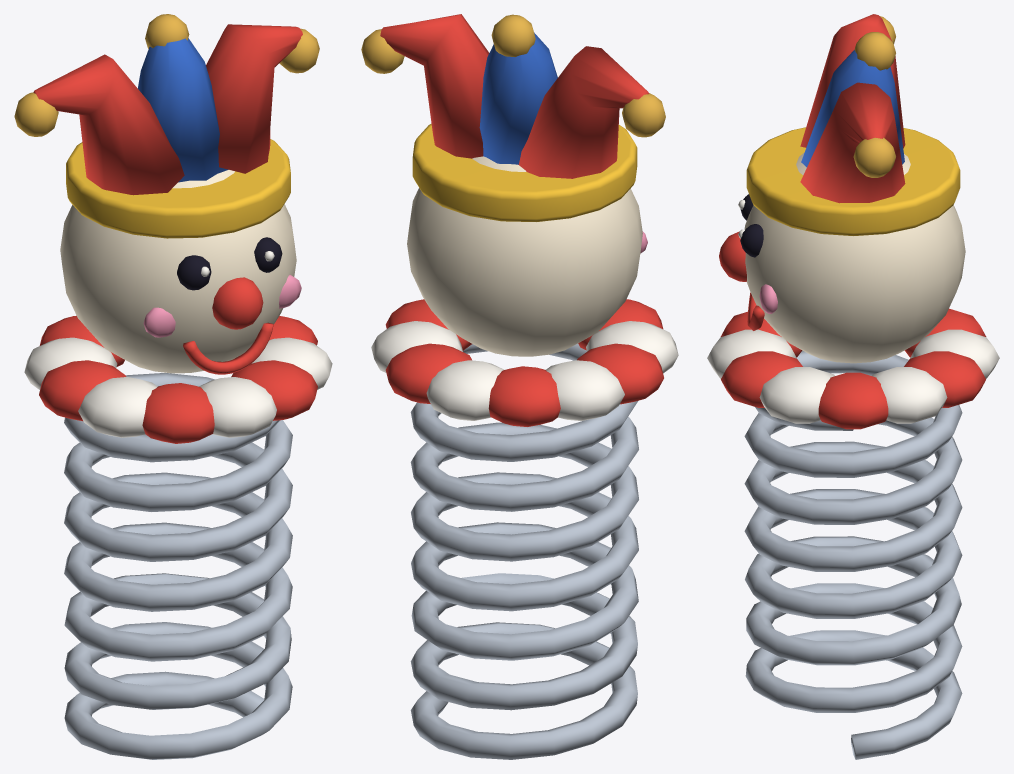
Rendered from toy_jack_pop.glb.
3 renders of one model, left to right at view 1: azimuth 30°, elevation 25°; view 2: azimuth 150°, elevation 25°; view 3: azimuth 270°, elevation 25°, orthographic. The views are drawn at different scales.
Visible parts, largest first — view 1: toy_jack_pop; view 2: toy_jack_pop; view 3: toy_jack_pop.
Part boxes in pixels (x1,y1,x2,y2): toy_jack_pop: [14, 14, 332, 759]; toy_jack_pop: [361, 14, 678, 759]; toy_jack_pop: [707, 14, 999, 759].
Size of the model in its own units: 3.04 by 7.05 by 2.74.
